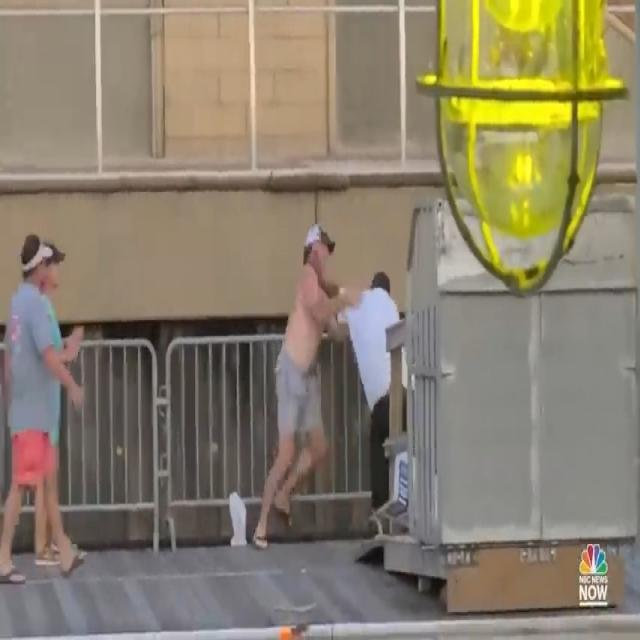fight: (250, 216, 408, 556)
non-fight: (0, 224, 87, 583)
